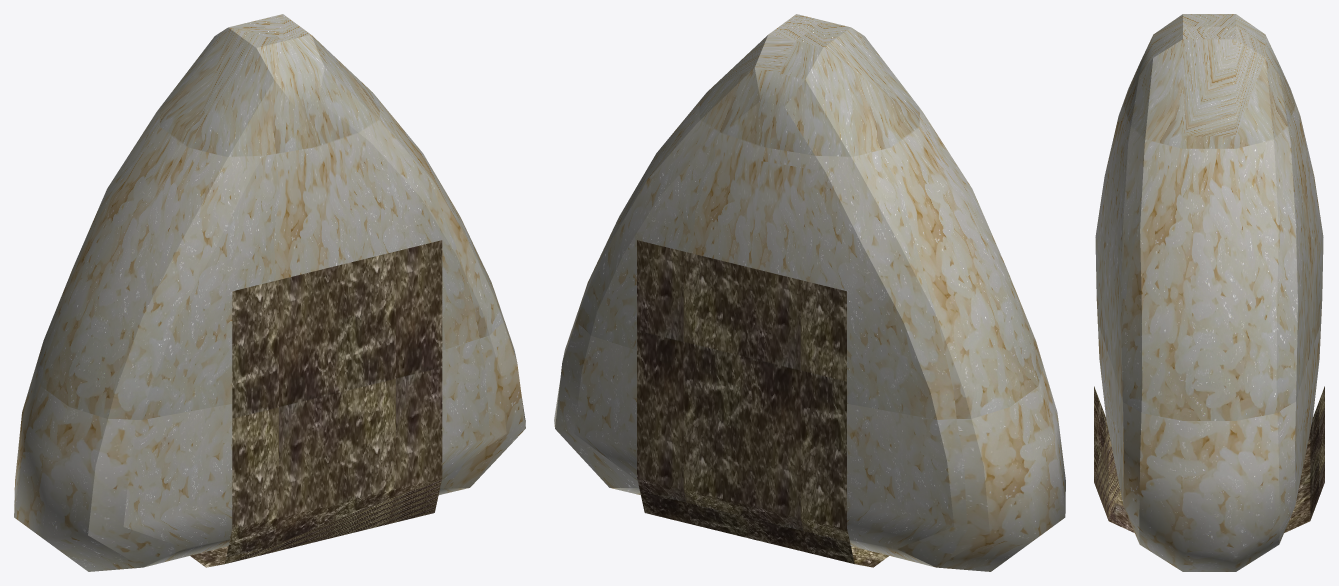
File: riceball1.fbx
3 renders of one model, left to right at view 1: azimuth 30°, elevation 25°; view 2: azimuth 150°, elevation 25°; view 3: azimuth 270°, elevation 25°, orthographic. The views are drawn at different scales.
Visible parts, largest first — view 1: pCube1, pCube2; view 2: pCube1, pCube2; view 3: pCube1, pCube2.
Boxes of the visible parts, bbox=[...] form: pCube1: bbox=[14, 14, 525, 571]; pCube2: bbox=[190, 240, 442, 567]; pCube1: bbox=[554, 14, 1065, 571]; pCube2: bbox=[637, 240, 889, 567]; pCube1: bbox=[1095, 14, 1323, 571]; pCube2: bbox=[1094, 386, 1324, 532].
Size of the model in its own units: 11.25 by 10.83 by 4.93.
